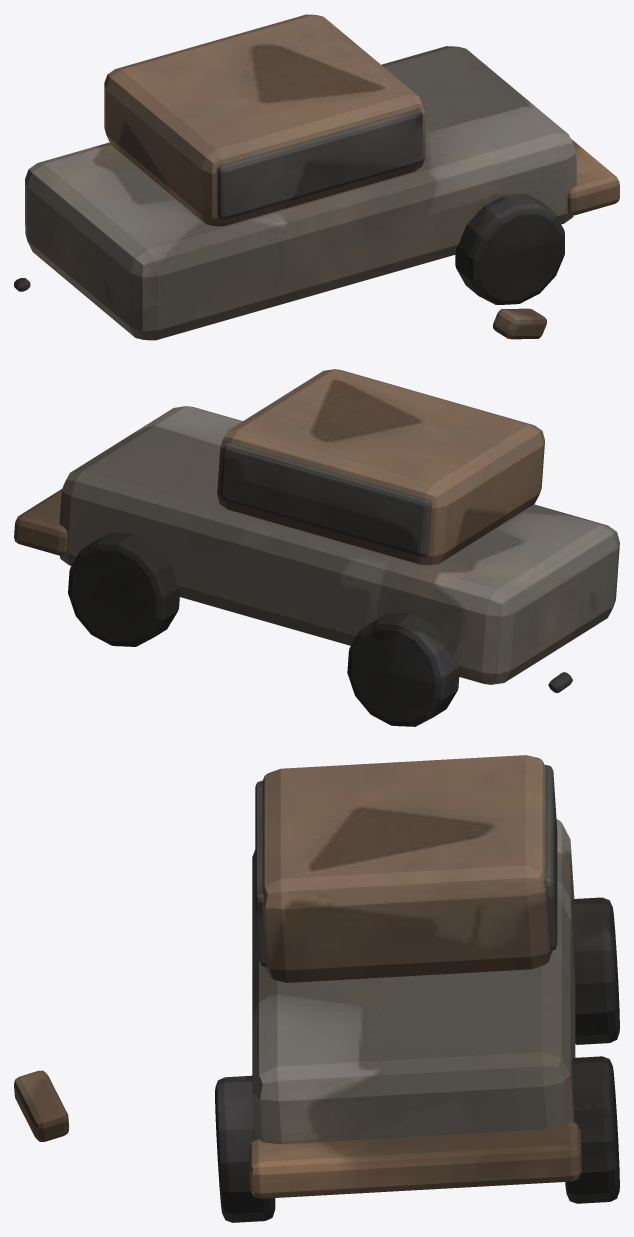
The model's file is car-burnt.glb.
3 renders of one model, top to bottom at view 1: azimuth 30°, elevation 25°; view 2: azimuth 150°, elevation 25°; view 3: azimuth 270°, elevation 25°, orthographic. The views are drawn at different scales.
Visible parts, largest first — view 1: car_burnt; view 2: car_burnt; view 3: car_burnt.
Part boxes in pixels (x1,y1,x2,y2): car_burnt: (14, 14, 619, 340); car_burnt: (14, 369, 619, 726); car_burnt: (14, 755, 619, 1222).
Size of the model in its own units: 1.16 by 0.4895 by 0.9129.
Materials: 1 (1 with a texture image).
